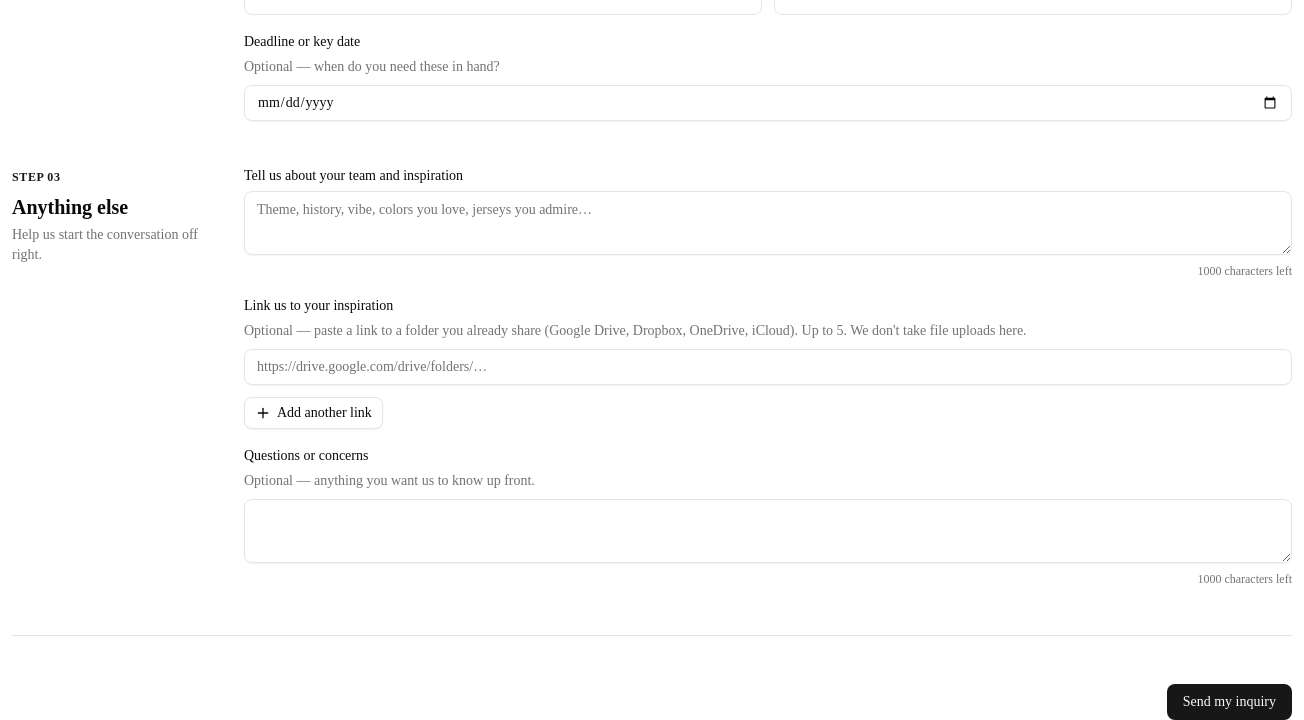
Test: IntakeForm — inspiration links › adds and removes link rows, stopping at the cap
(page scrolled)
Expected: the number of fields labelled "https://drive.google.com/drive/folders/…" is 1, [244, 349, 1292, 385]
Click the button "Add another link" at [313, 413], box [244, 397, 383, 429]
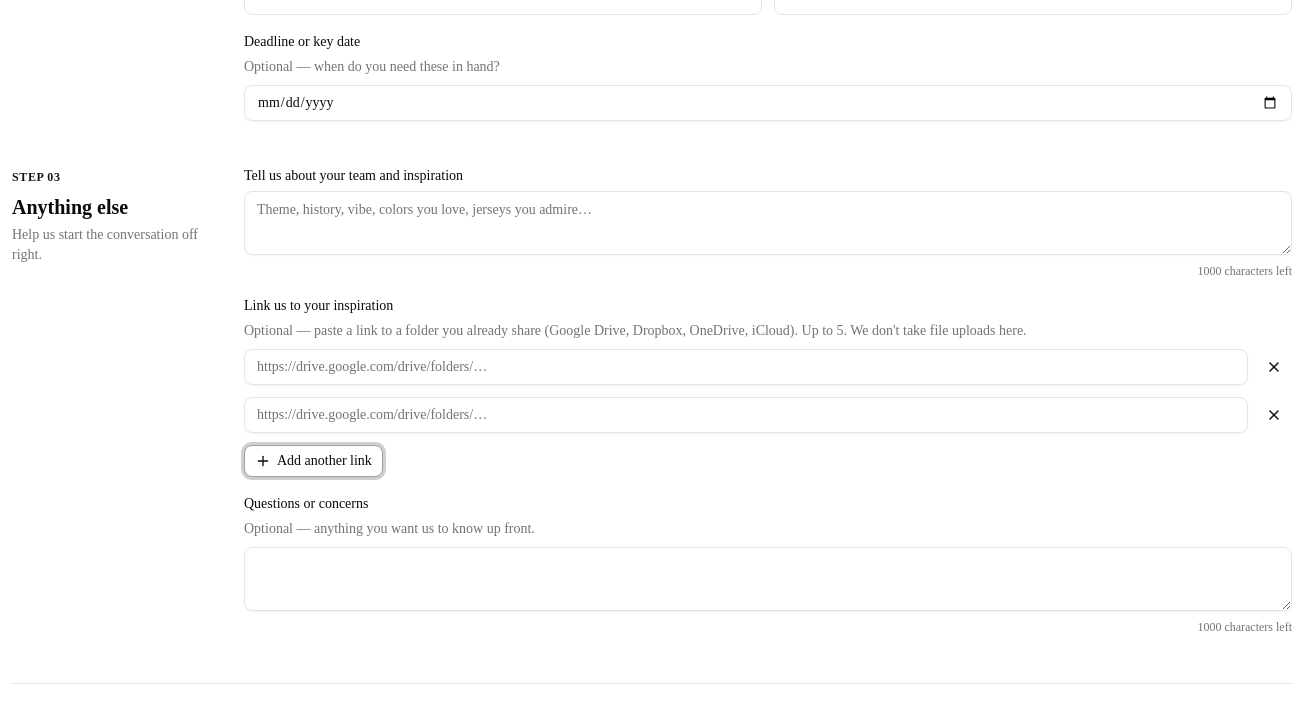
Click the button "Add another link" at [313, 461], box [244, 445, 383, 477]
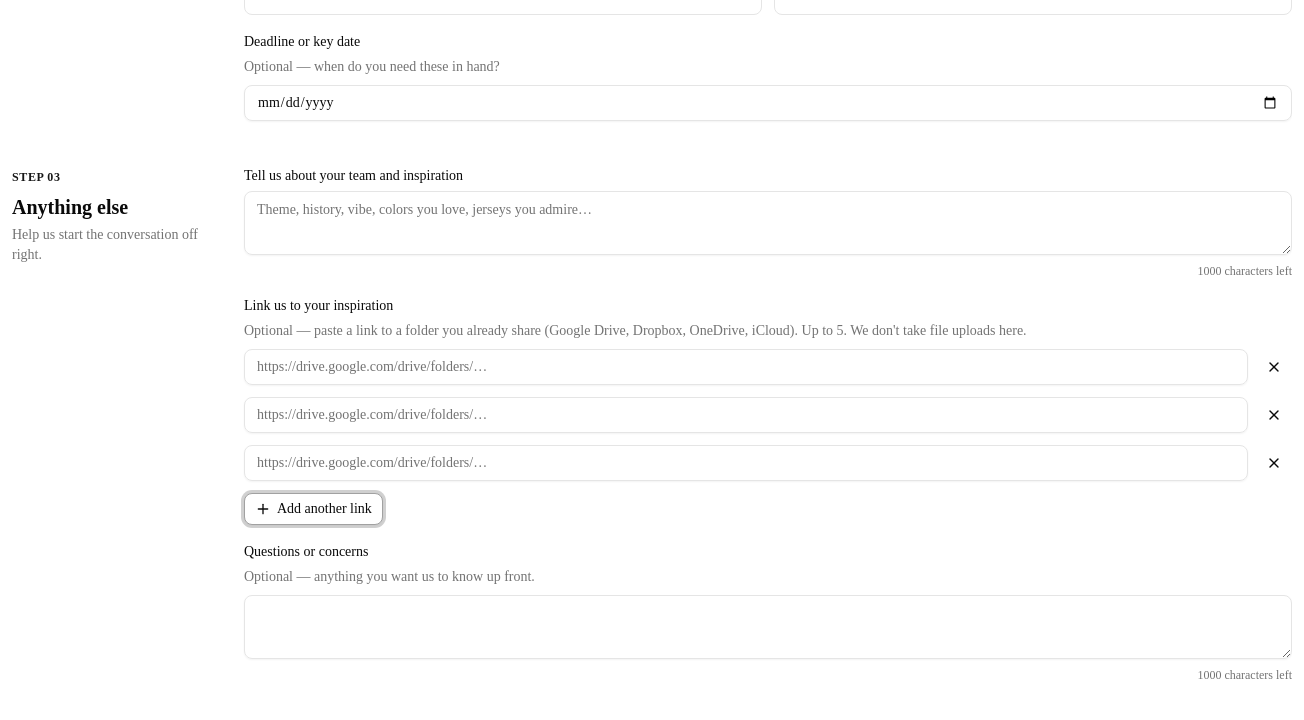
Click the button "Add another link" at [313, 509], box [244, 493, 383, 525]
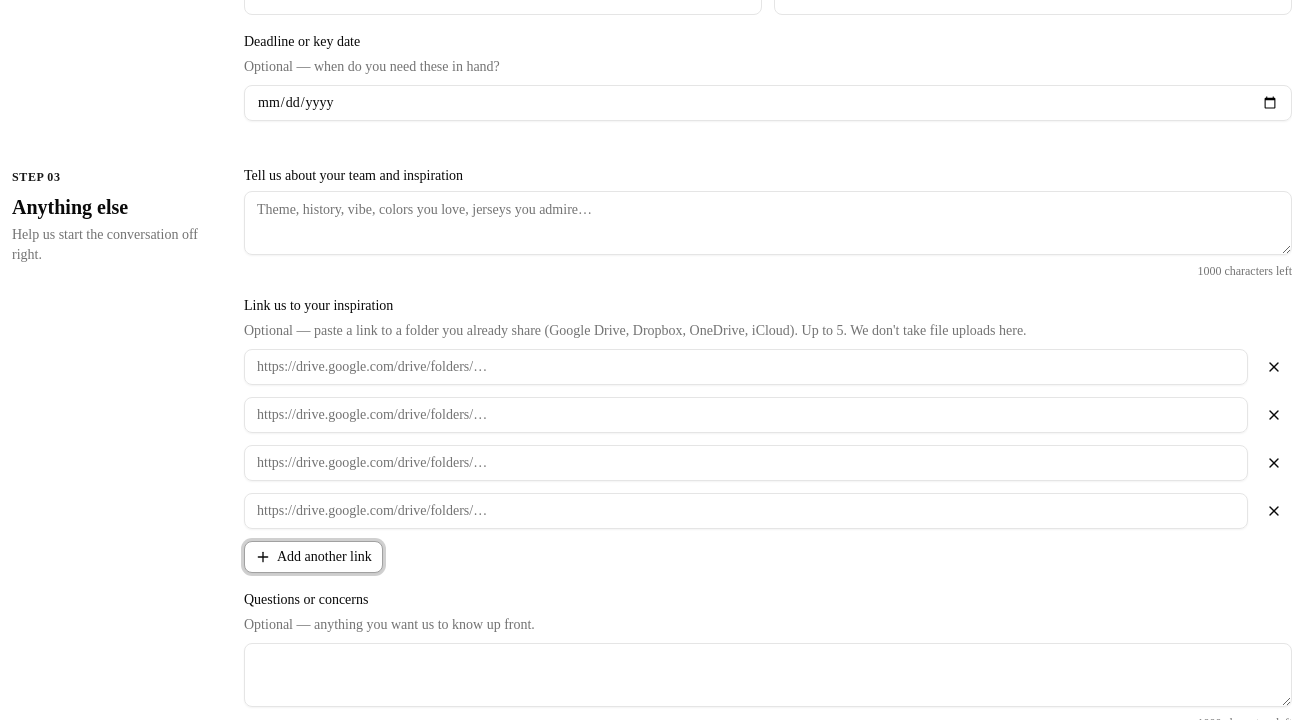
Click the button "Add another link" at [313, 557], box [244, 541, 383, 573]
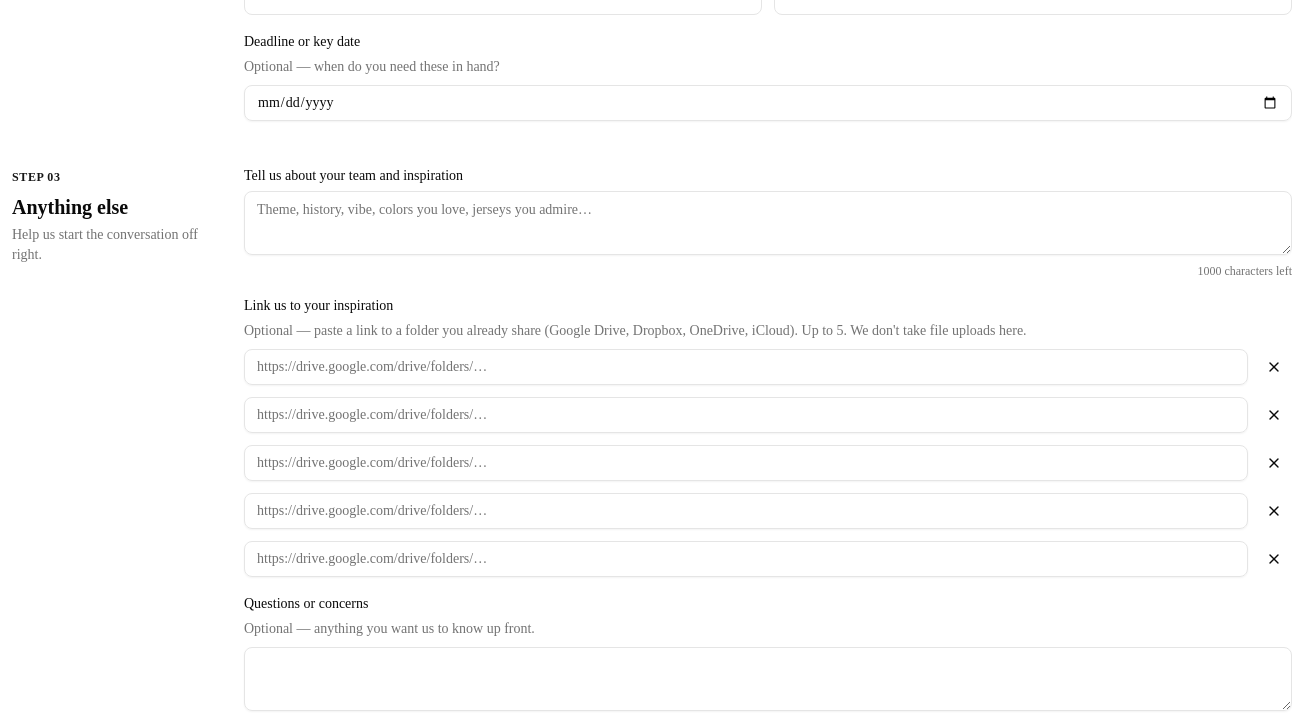
Now the number of fields labelled "https://drive.google.com/drive/folders/…" is 5, box [244, 349, 1248, 385]; [244, 397, 1248, 433]; [244, 445, 1248, 481]; [244, 493, 1248, 529]; [244, 541, 1248, 577]
Now the button "Add another link" is gone
Click the button named "remove inspiration link" at [1274, 367], box [1256, 349, 1292, 385]
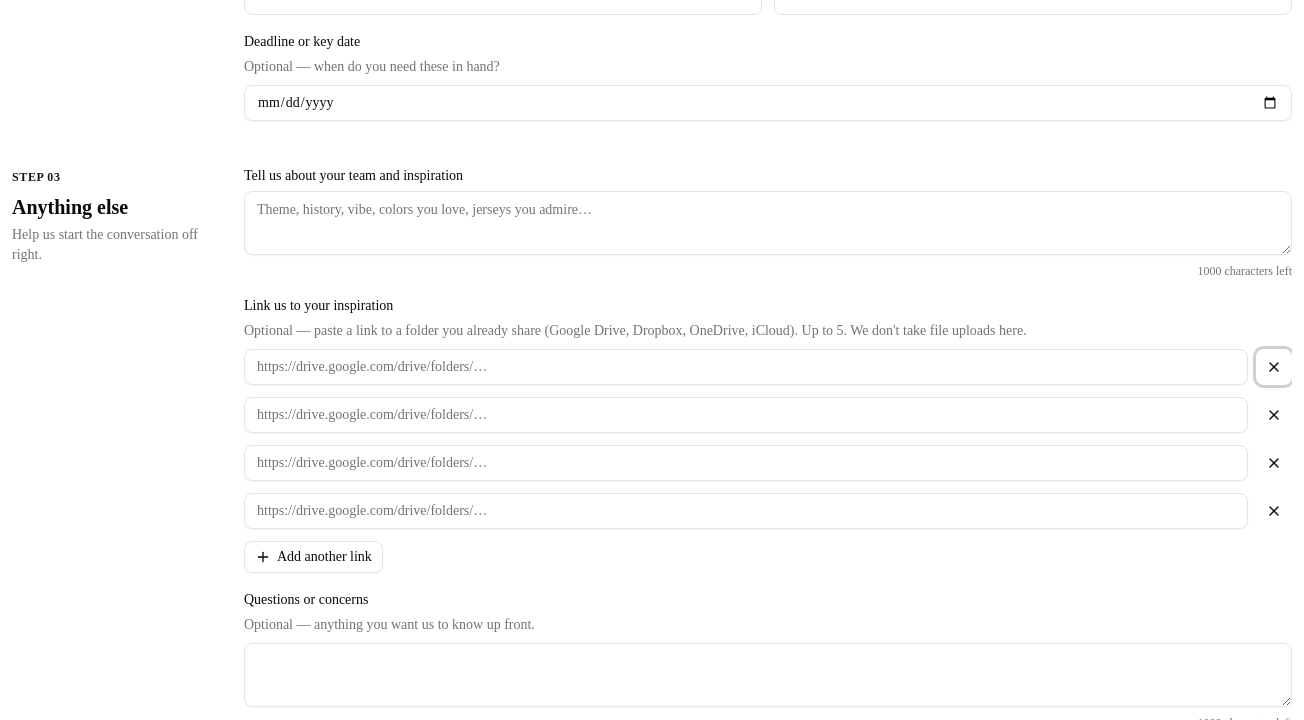
Now the number of fields labelled "https://drive.google.com/drive/folders/…" is 4, box [244, 349, 1248, 385]; [244, 397, 1248, 433]; [244, 445, 1248, 481]; [244, 493, 1248, 529]
Now the button "Add another link" is shown, box [244, 541, 383, 573]
